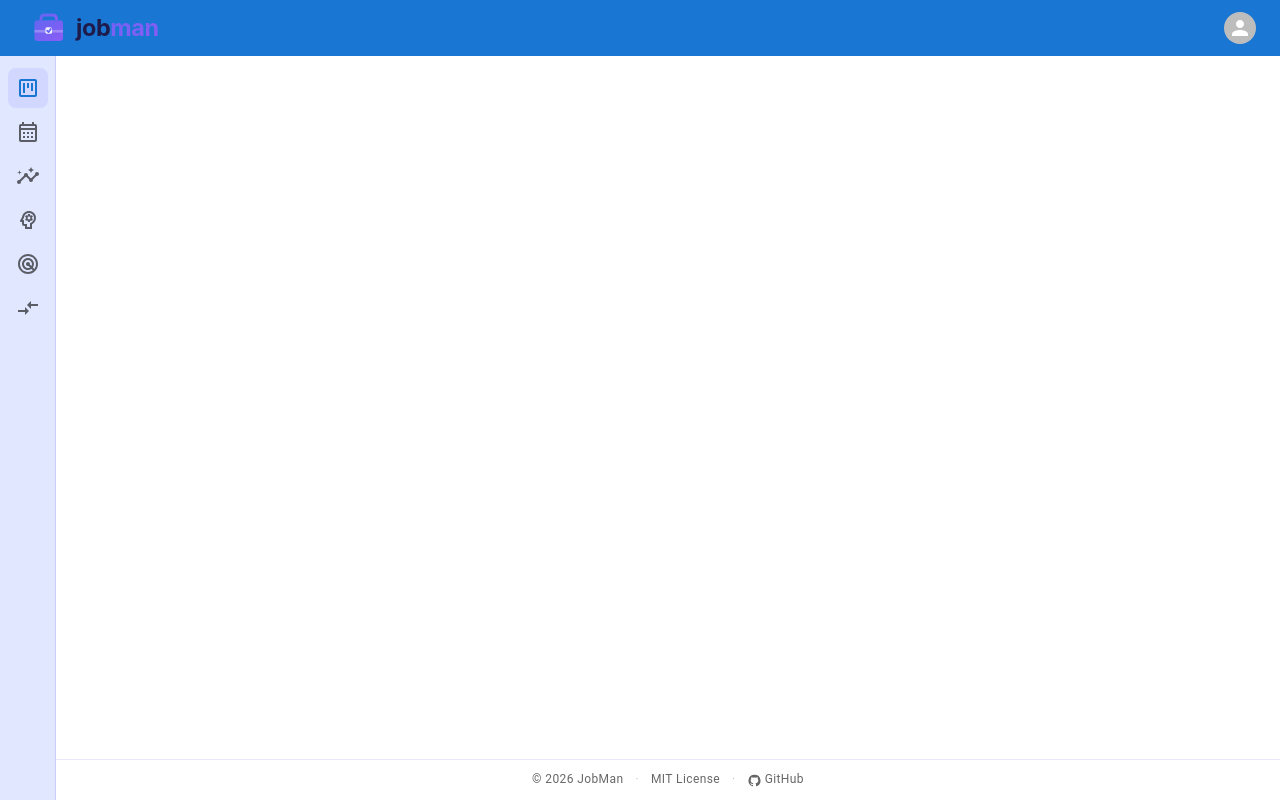
Test: appShell › new job search › opens the name-entry dialog and closes the user menu when clicked
The width and height of the screenshot is (1280, 800).
Click the button named "User menu" at coordinates (1240, 28), box [1224,12,1256,44]
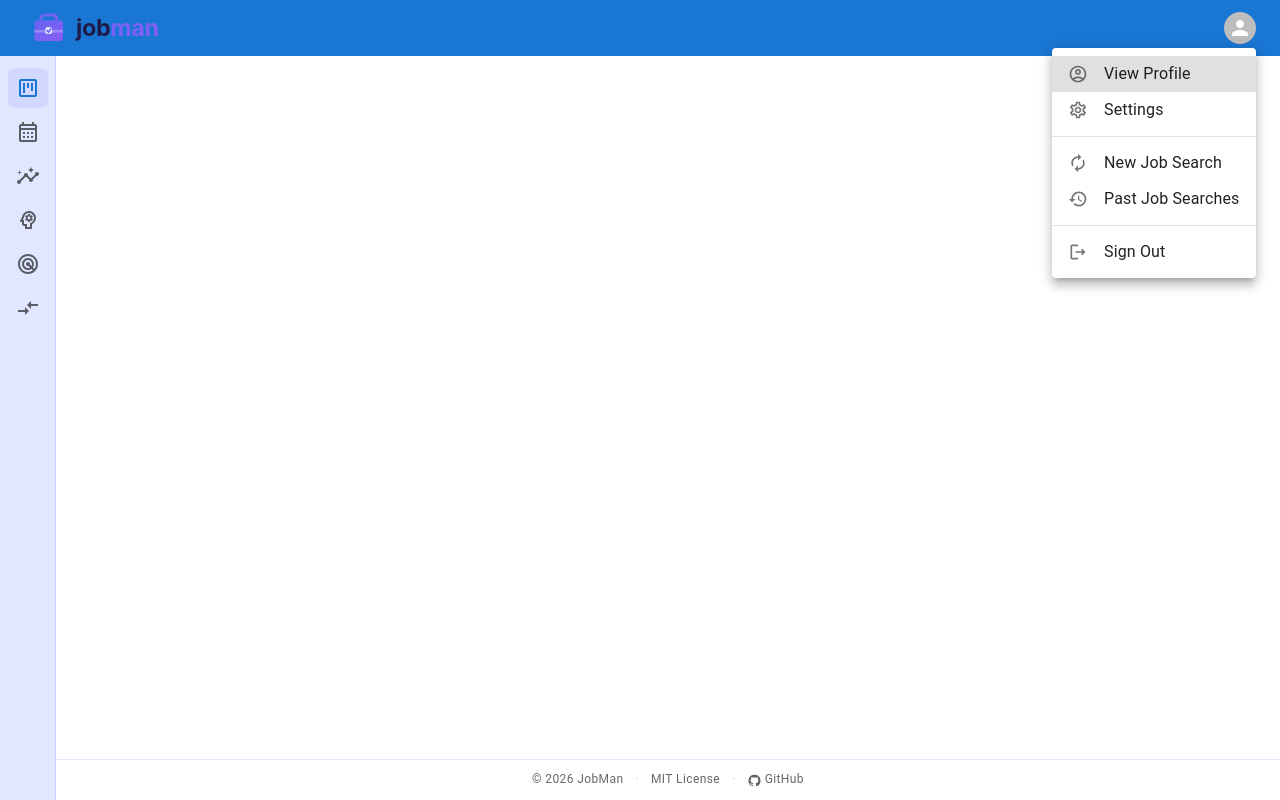
Click the menu item "New Job Search" at coordinates (1145, 163), box [1068,153,1222,173]
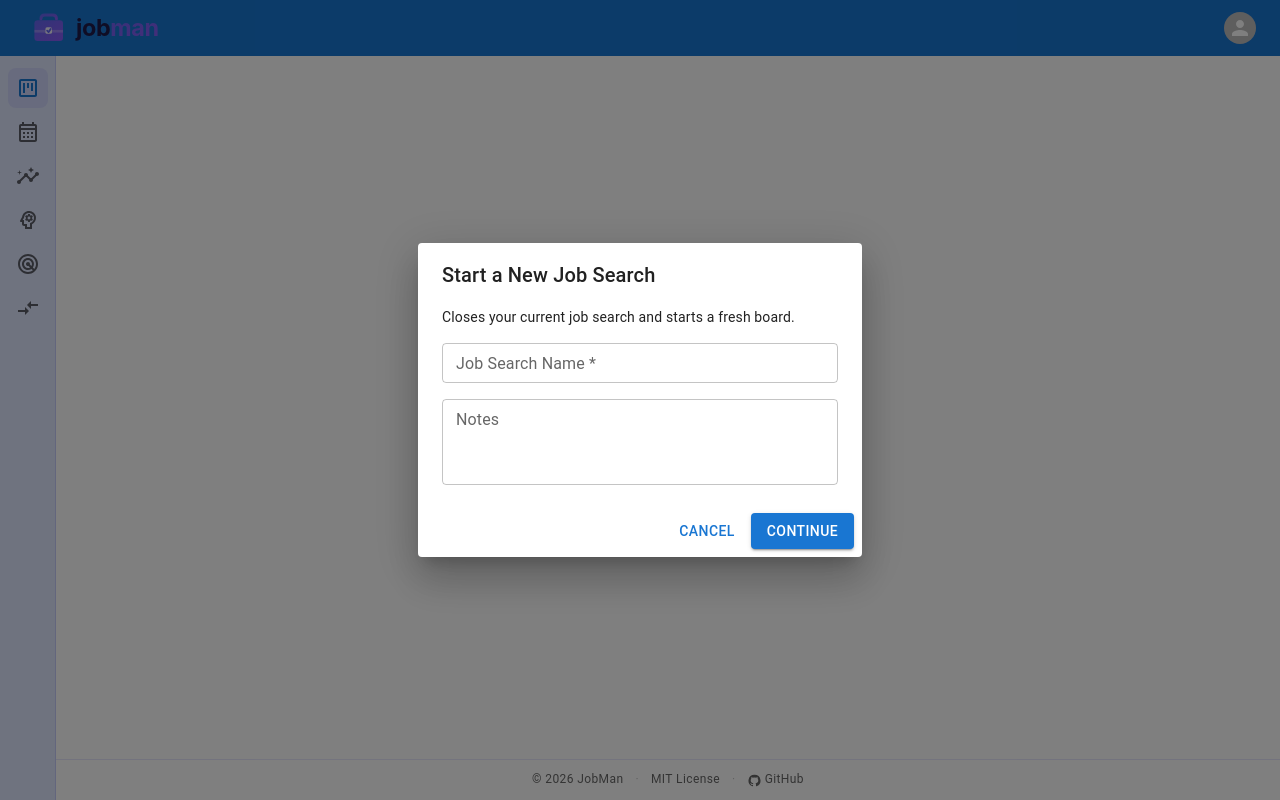
Check: the heading "Start a New Job Search" is shown, box [442,263,655,287]
Check: the menu item "Sign Out" is gone
